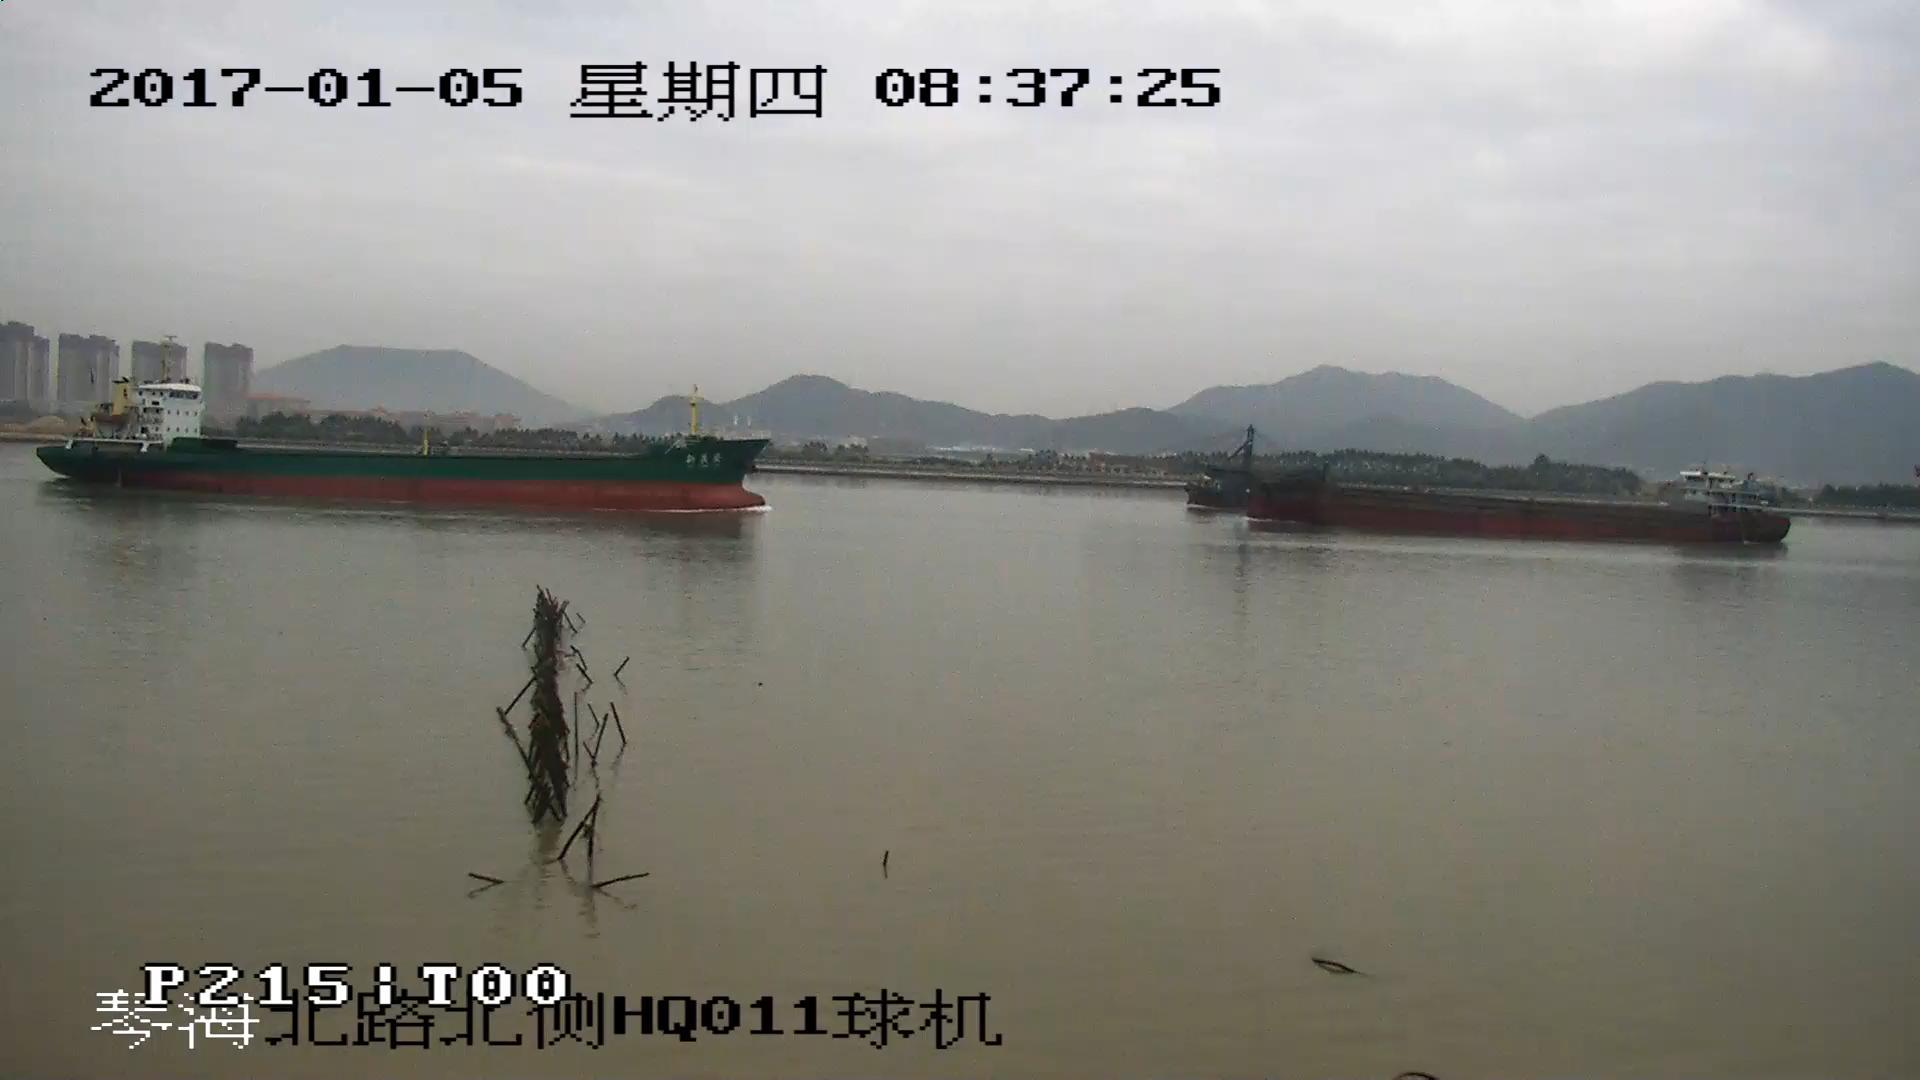Ship: (40, 332, 771, 513), (1183, 429, 1791, 549)
